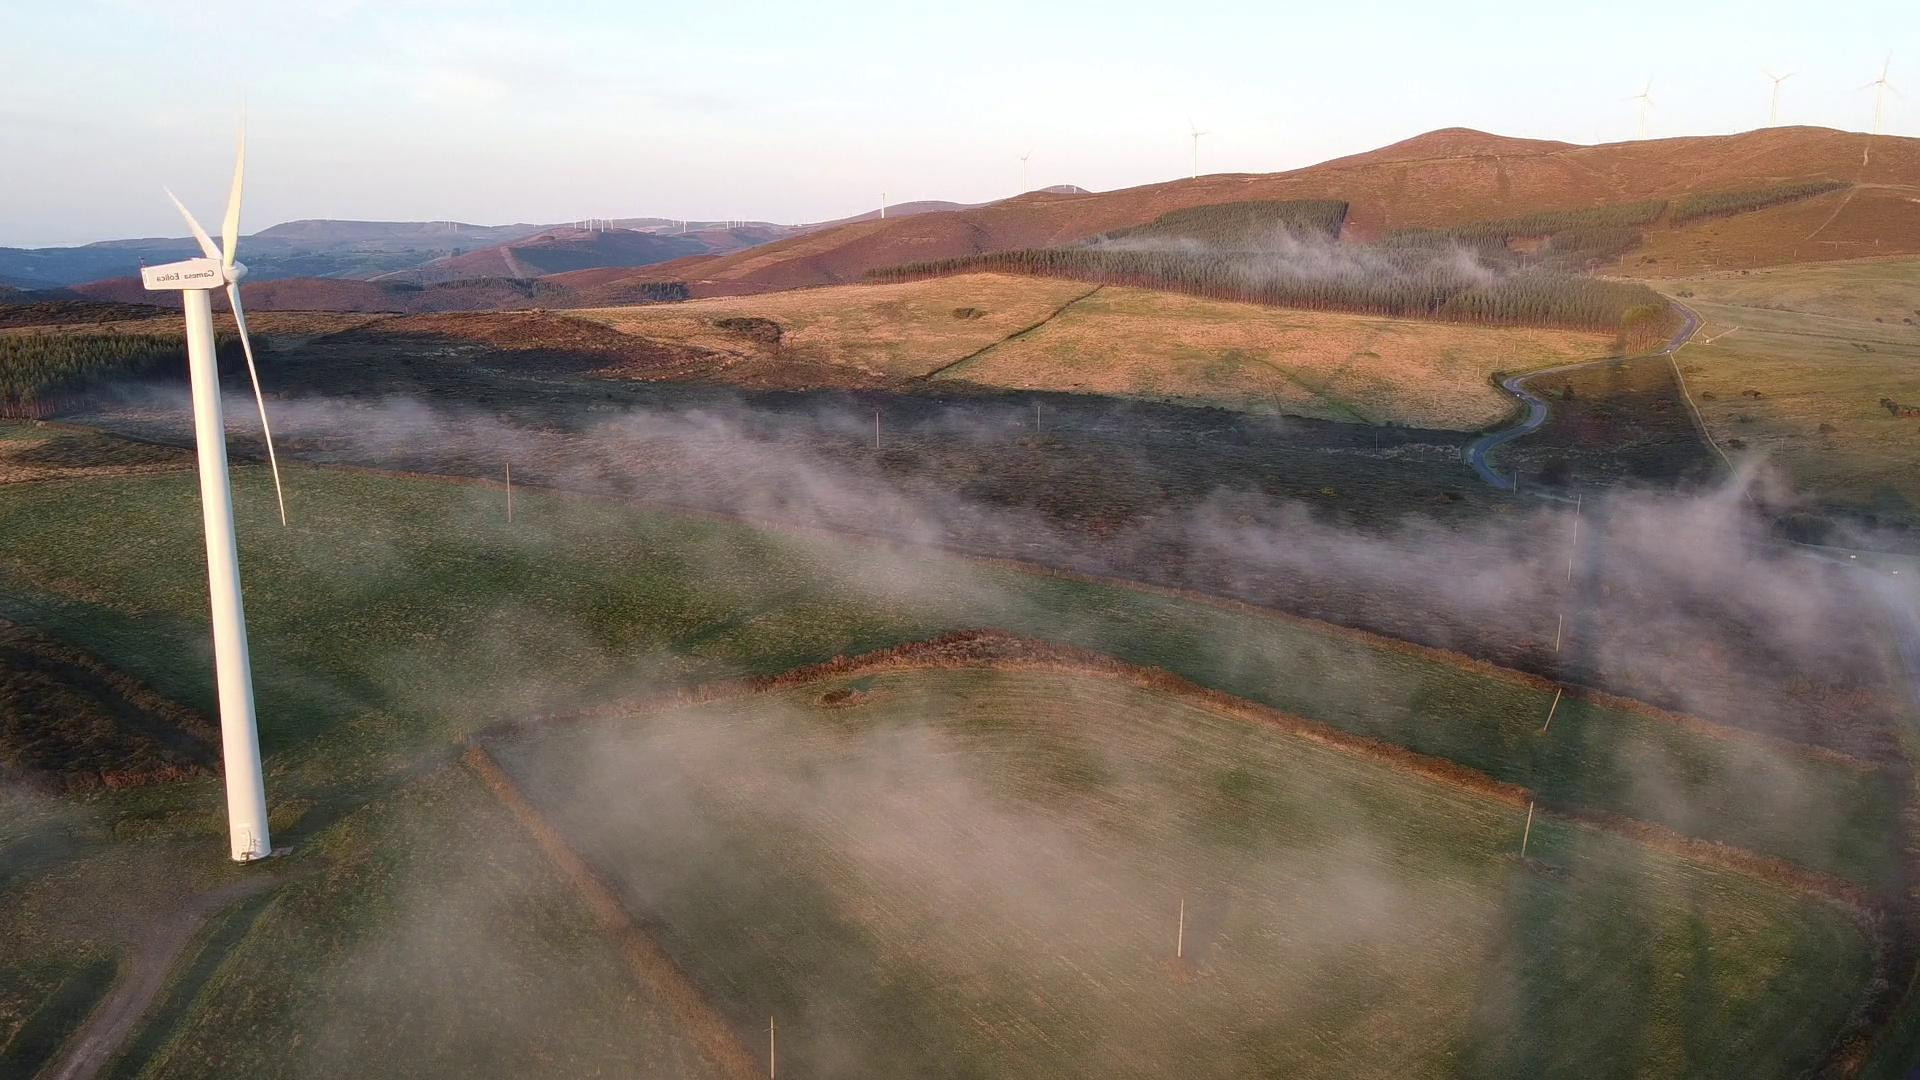turbine: (138, 80, 291, 873), (1851, 51, 1908, 136), (1753, 62, 1801, 128), (1621, 69, 1662, 142), (1172, 109, 1215, 179), (1005, 138, 1039, 196), (868, 182, 894, 222)
